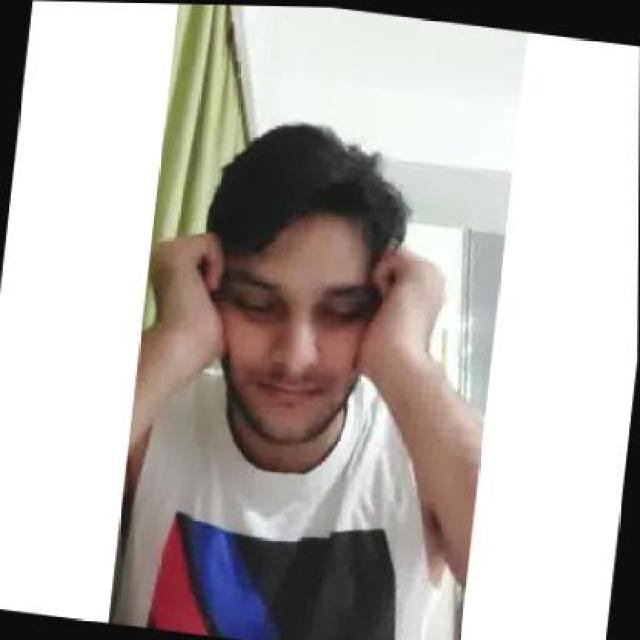inattentif: (192, 113, 402, 447)
